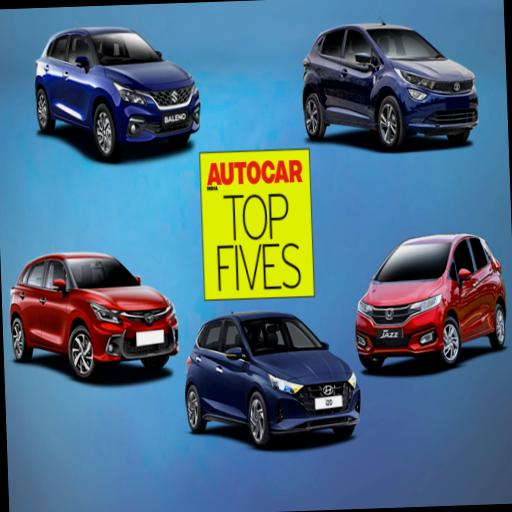Sedan-sDLz: (185, 311, 359, 446), (302, 22, 477, 149), (35, 27, 199, 160), (10, 253, 177, 379), (356, 234, 505, 368)
